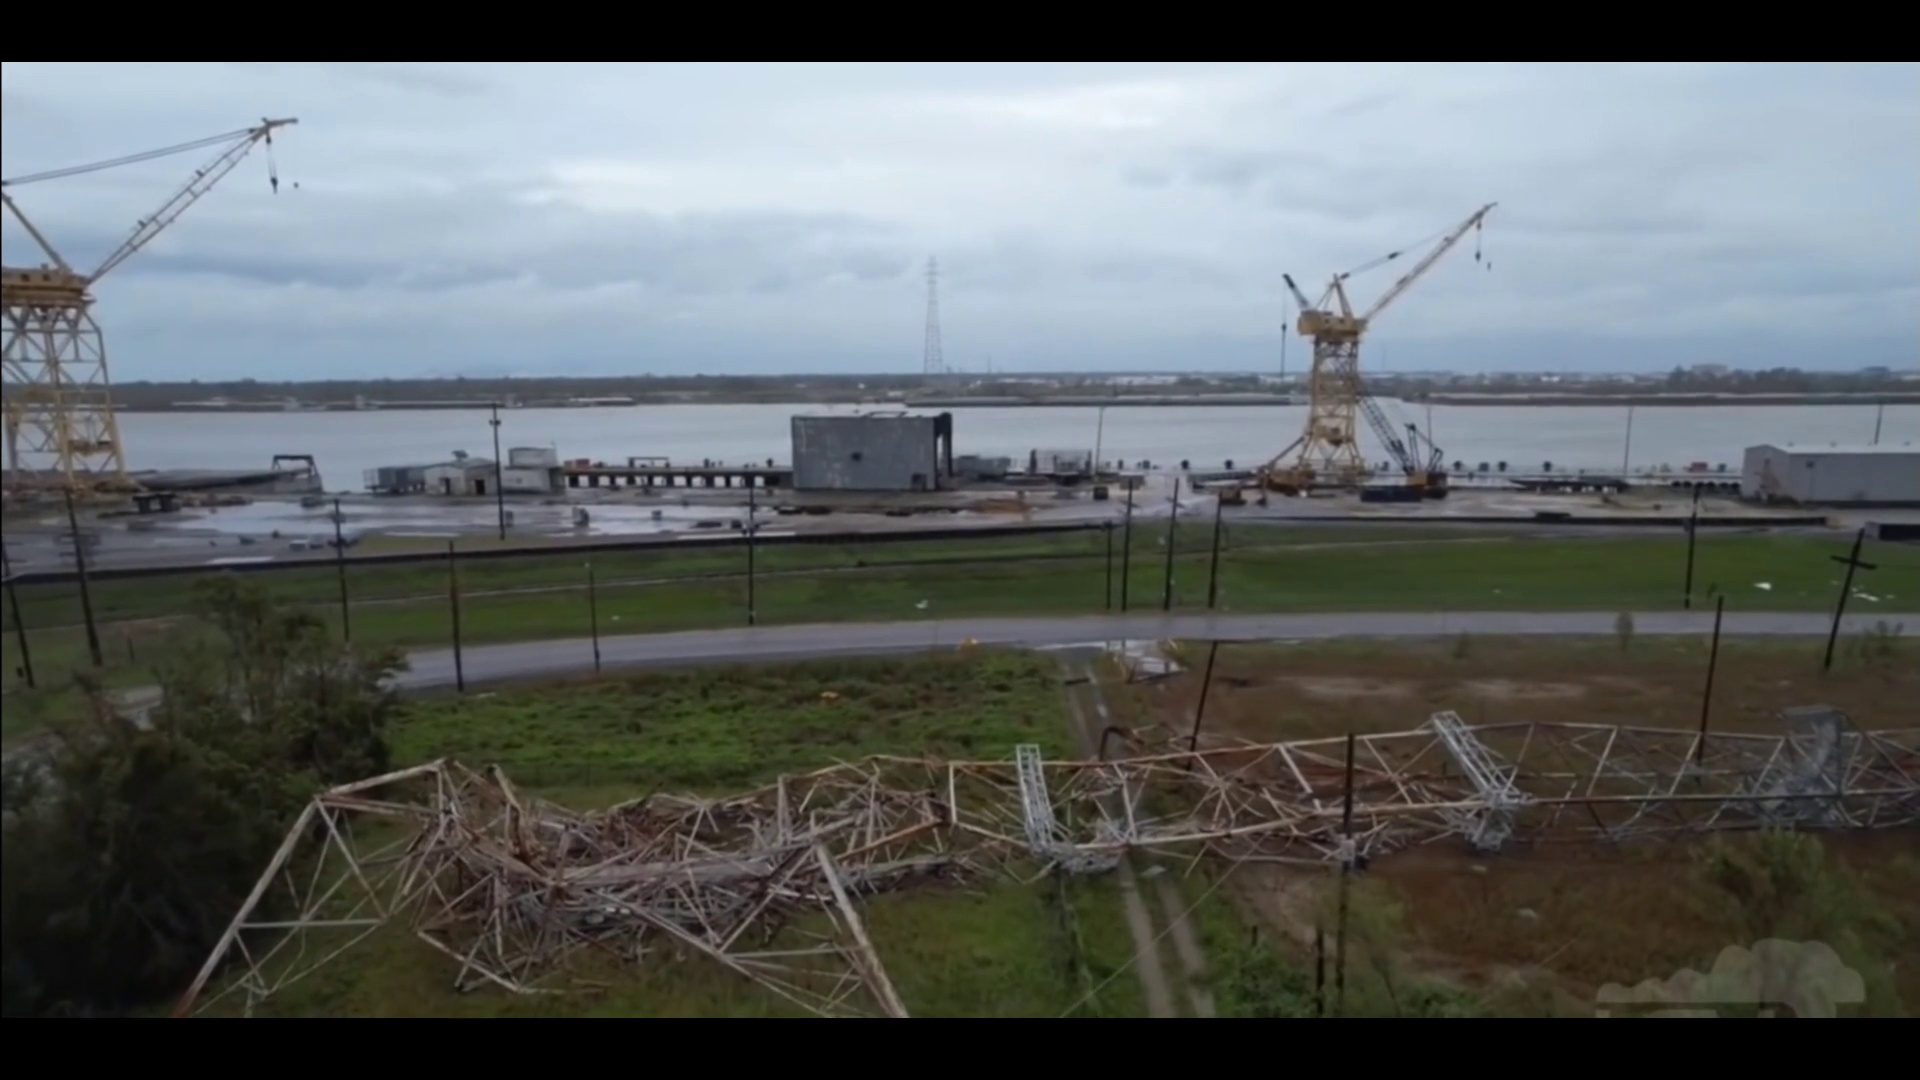tower_down: (236, 676, 1873, 934)
